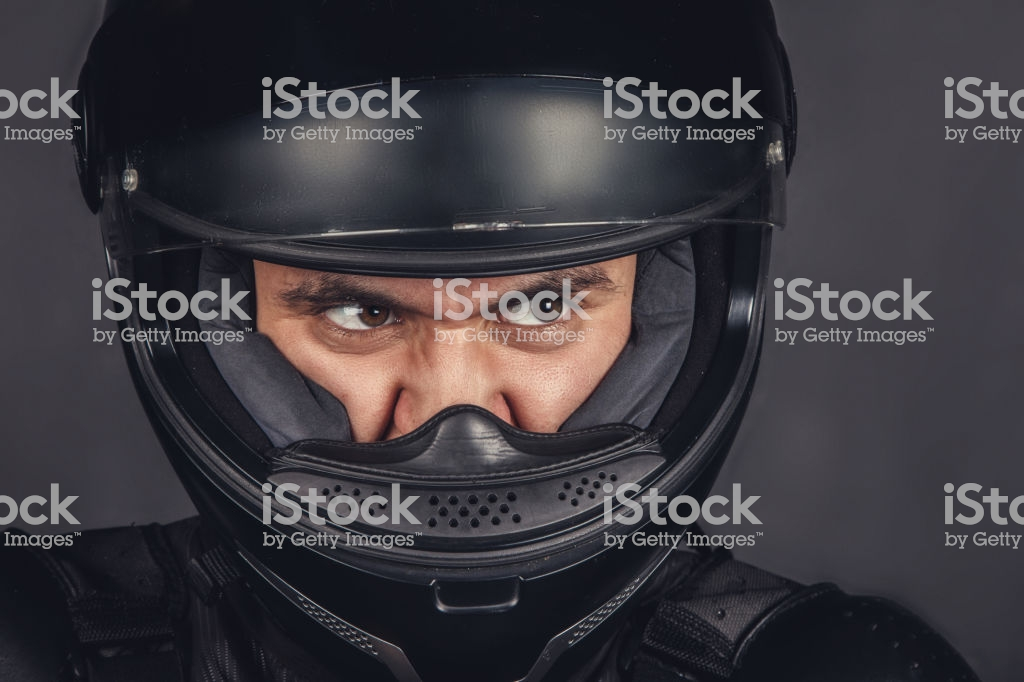helmet: (81, 12, 761, 629)
